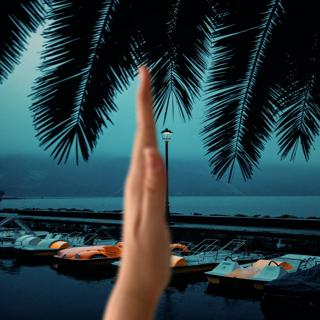Right: (115, 57, 188, 303)
